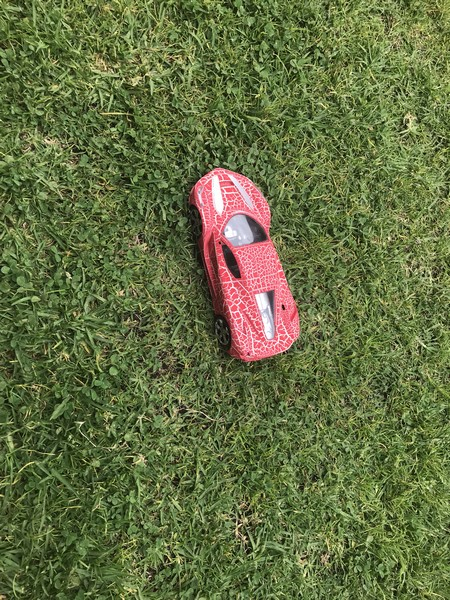RC: (186, 166, 302, 366)
